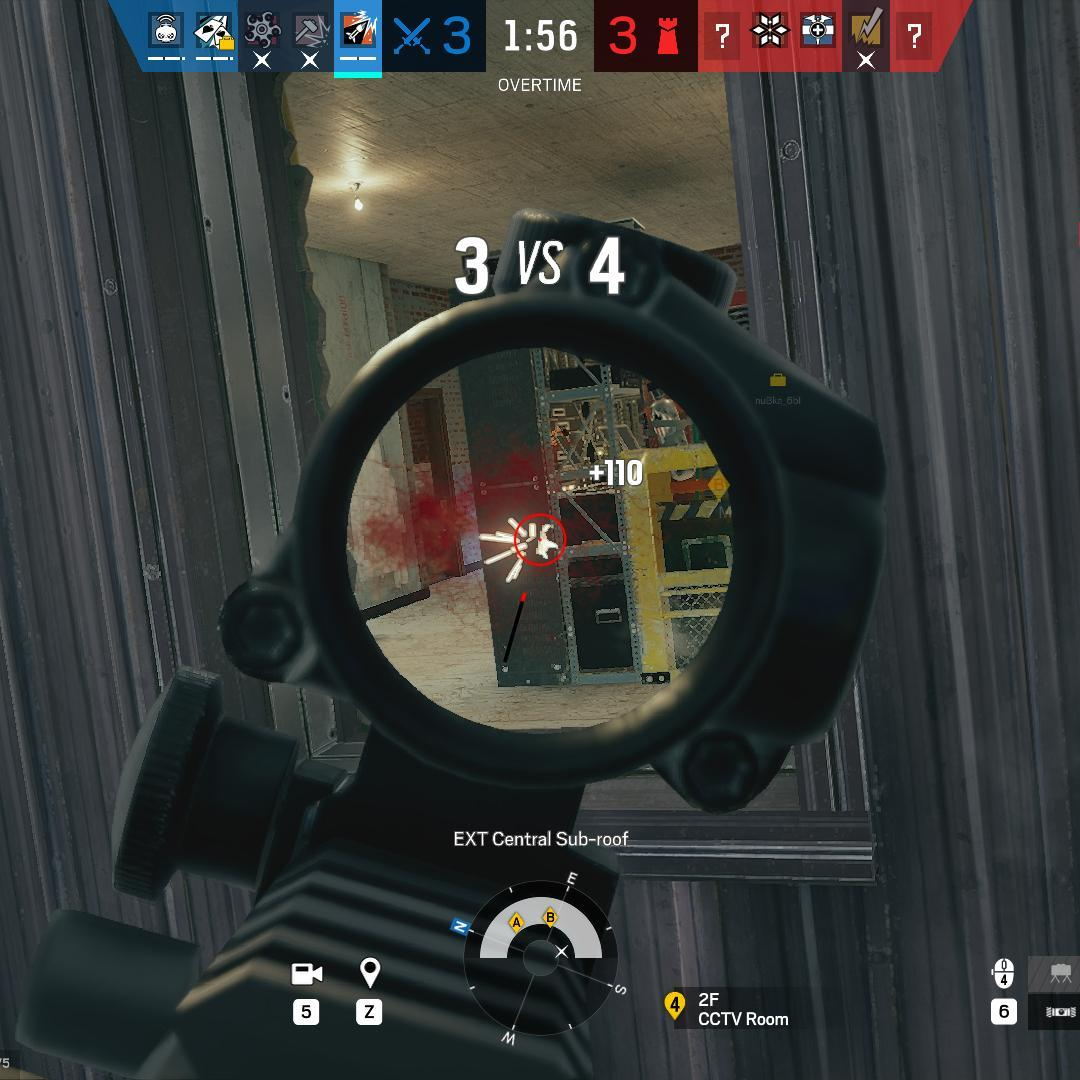Friend_label: (755, 369, 806, 409)
